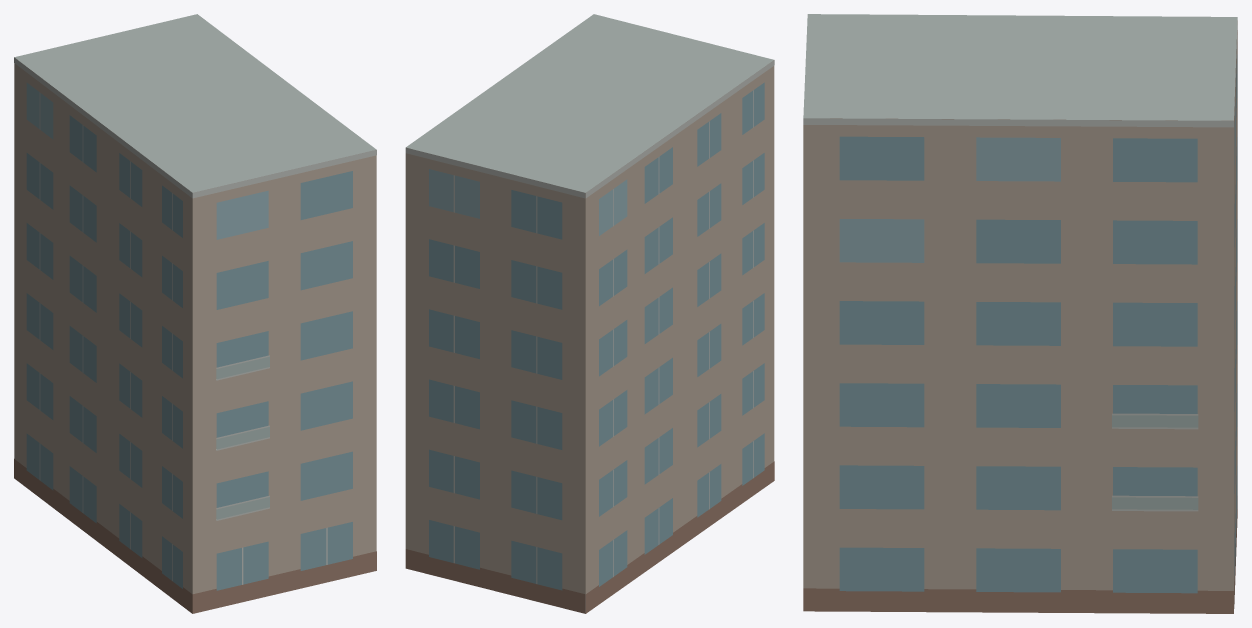
File: survey-upis-32942007.glb
The picture shows the model from 3 angles, left to right: view 1: azimuth 30°, elevation 25°; view 2: azimuth 150°, elevation 25°; view 3: azimuth 270°, elevation 25°; orthographic projection. The views are drawn at different scales.
Visible parts, largest first — view 1: survey-upis-32942007.tmp; view 2: survey-upis-32942007.tmp; view 3: survey-upis-32942007.tmp.
Part boxes in pixels (bbox=[...]): survey-upis-32942007.tmp: bbox=[14, 14, 376, 613]; survey-upis-32942007.tmp: bbox=[405, 14, 774, 613]; survey-upis-32942007.tmp: bbox=[803, 14, 1237, 613].
Bounding box in the file's own units: 8.48 × 18.2 × 14.54.
